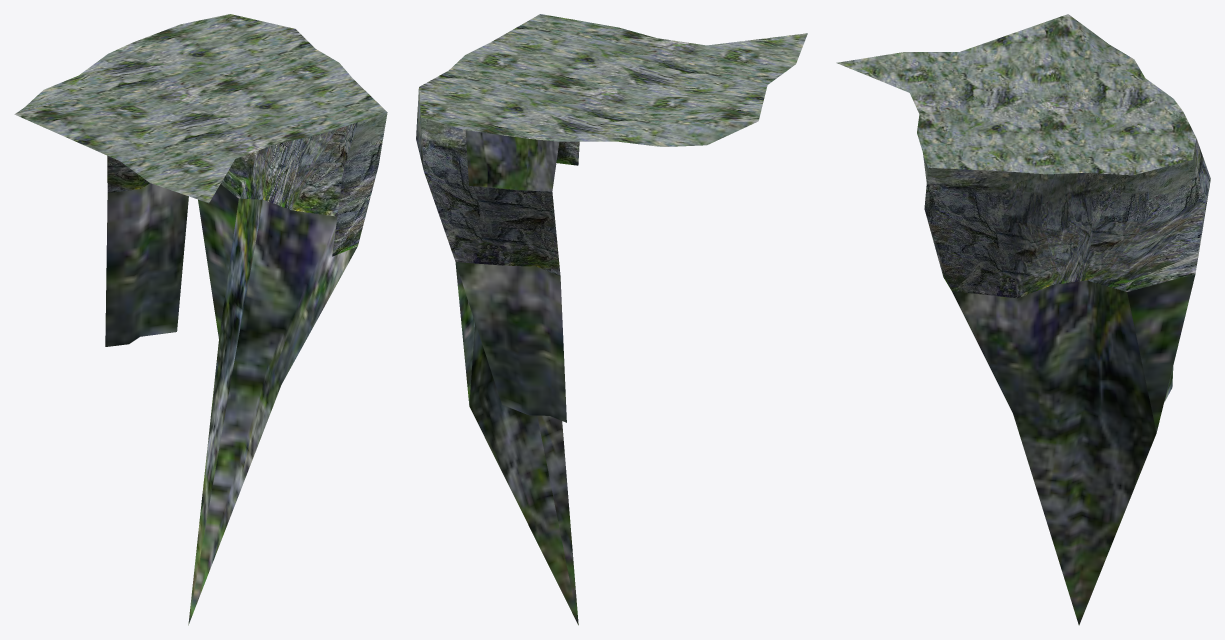
The picture shows the model from 3 angles, left to right: view 1: azimuth 30°, elevation 25°; view 2: azimuth 150°, elevation 25°; view 3: azimuth 270°, elevation 25°; orthographic projection. The views are drawn at different scales.
Visible parts, largest first — view 1: Box299; view 2: Box299; view 3: Box299.
Boxes of the visible parts, x1,y1,x2,y2 form: Box299: (14,14,387,625); Box299: (416,14,807,625); Box299: (836,14,1210,625).
Bounding box in the file's own units: 302 × 505 × 324.
